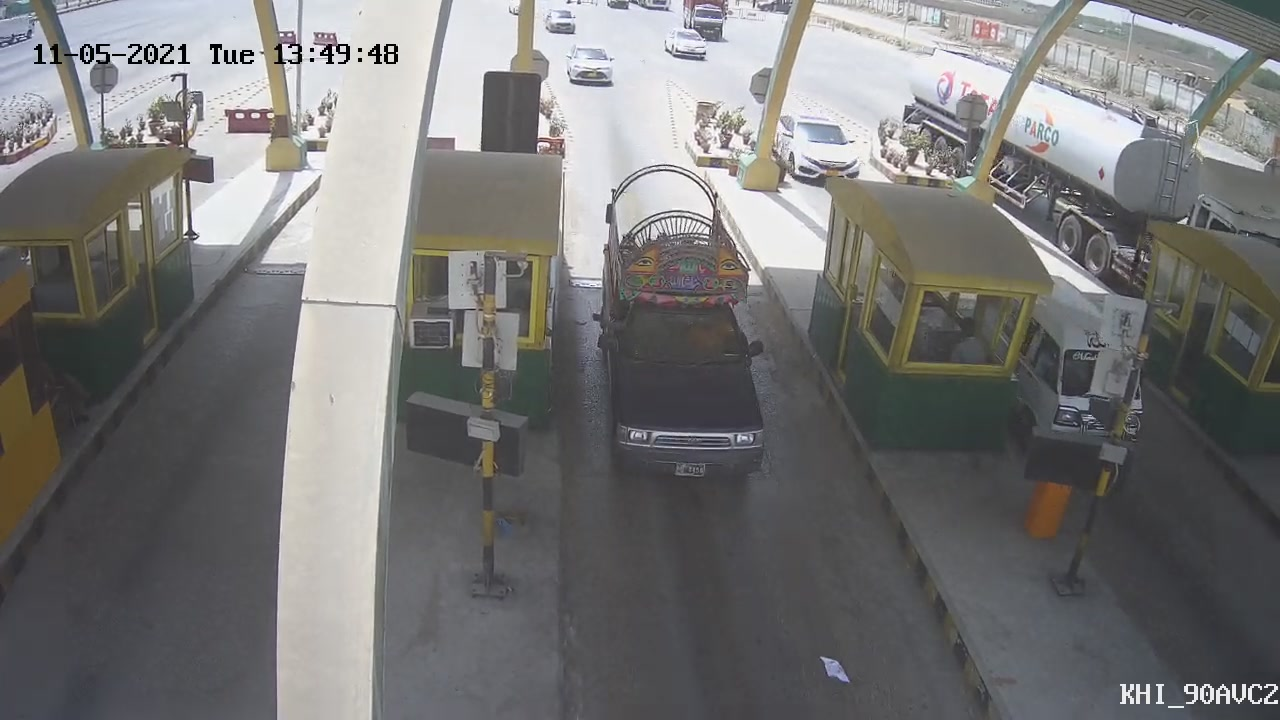F1: (589, 161, 774, 497)
